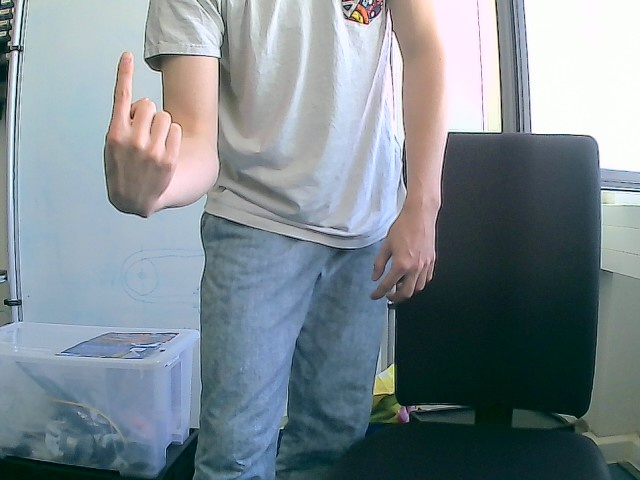up: (102, 51, 183, 219)
